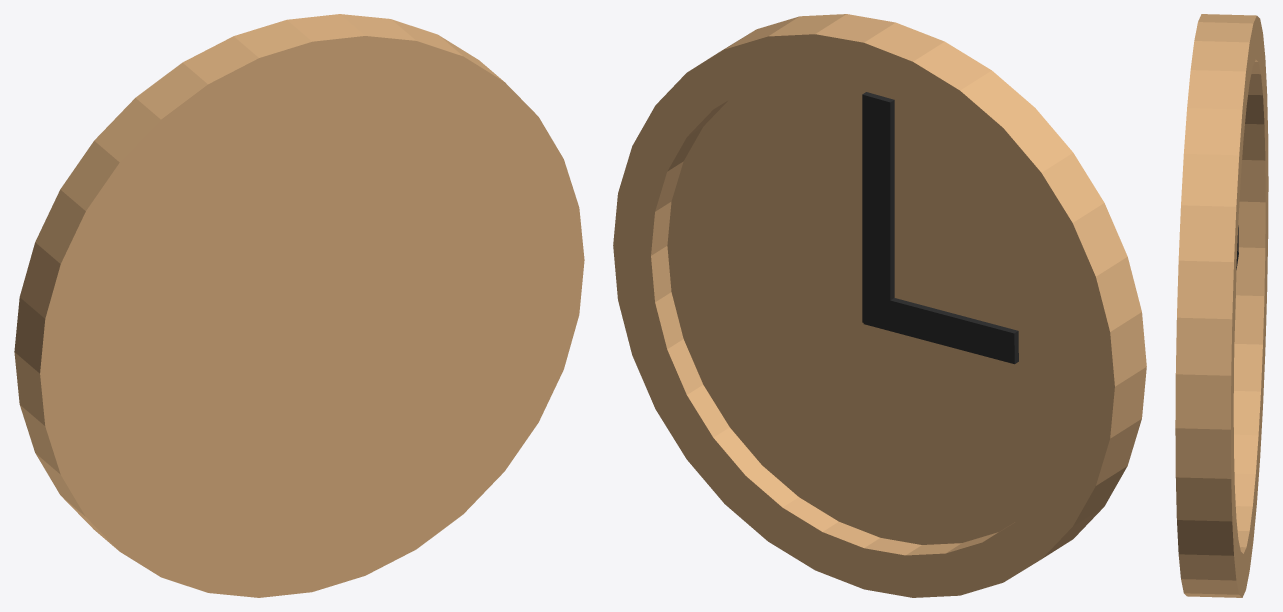
File: Clock_2.fbx
3 renders of one model, left to right at view 1: azimuth 30°, elevation 25°; view 2: azimuth 150°, elevation 25°; view 3: azimuth 270°, elevation 25°, orthographic. The views are drawn at different scales.
Parts seen in each view (by area): view 1: Cube.156; view 2: Cube.156; view 3: Cube.156.
Boxes of the visible parts, bbox=[...] form: Cube.156: bbox=[14, 14, 584, 597]; Cube.156: bbox=[613, 14, 1146, 597]; Cube.156: bbox=[1175, 14, 1268, 597].
Bounding box in the file's own units: 94.88 × 94.5 × 15.09.
